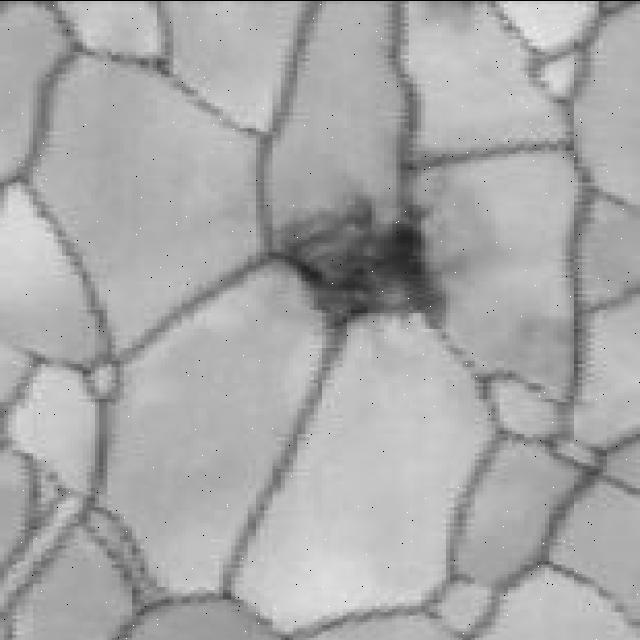good_void: (266, 200, 455, 346)
